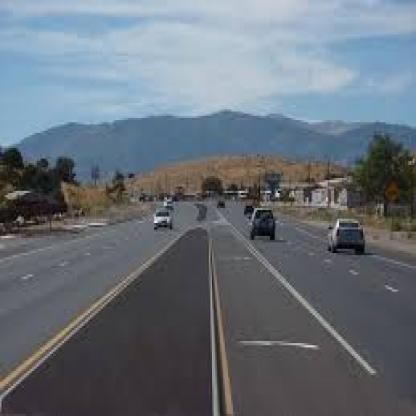car: (326, 213, 371, 258), (247, 206, 284, 246), (152, 206, 174, 234), (214, 196, 228, 211)
